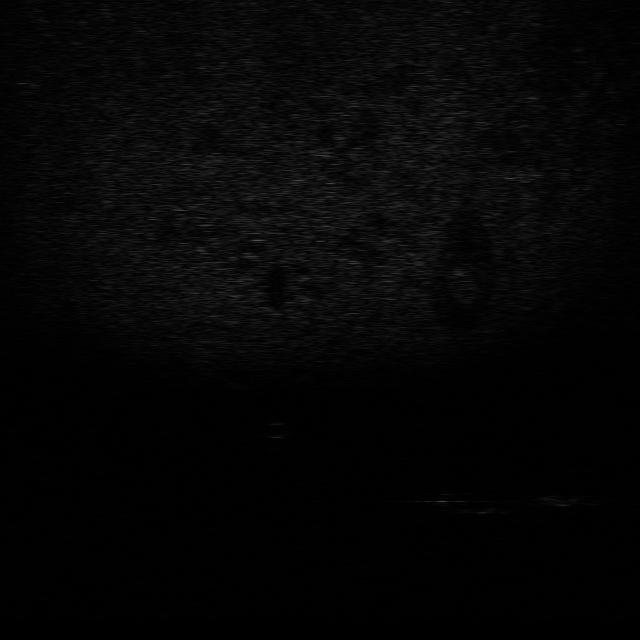ball: (259, 421, 291, 442)
metal bucket: (524, 490, 598, 509)
tyre: (434, 488, 510, 515)
